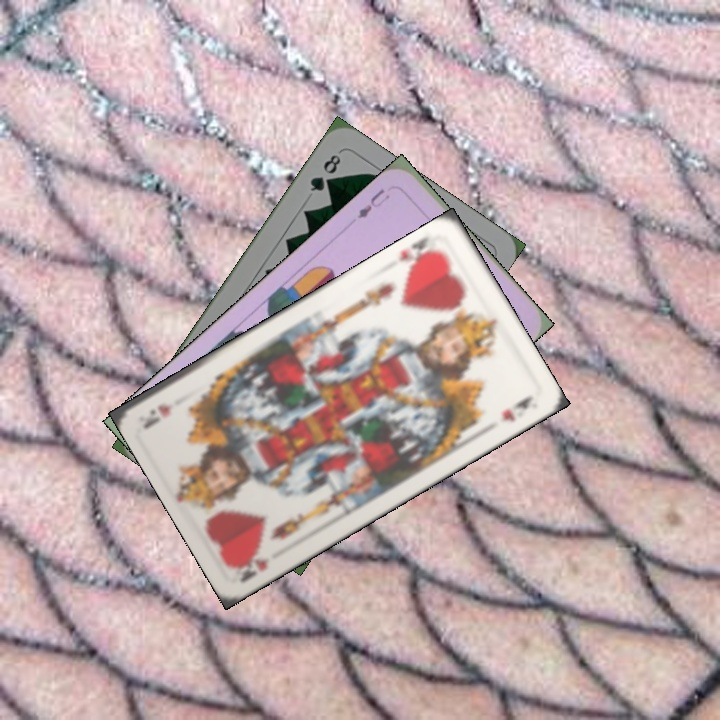EU: (353, 184, 393, 222)
G8: (306, 150, 344, 194)
HK: (394, 233, 445, 276), (230, 548, 273, 585)
